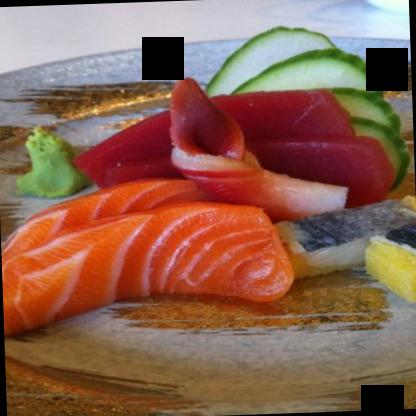salmon: (0, 172, 287, 336)
